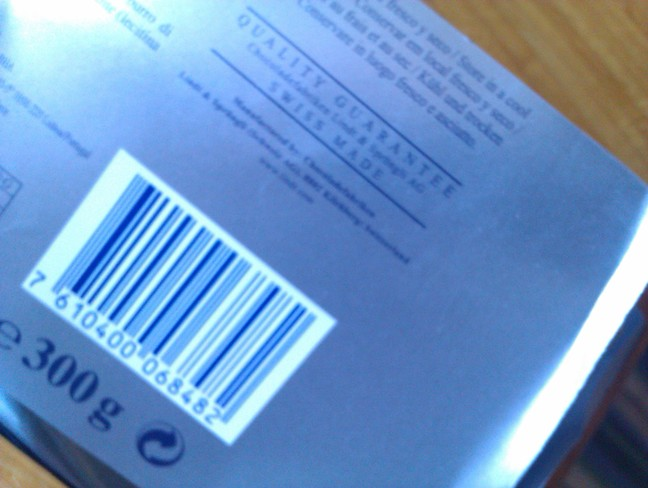barcode: (25, 168, 323, 441)
